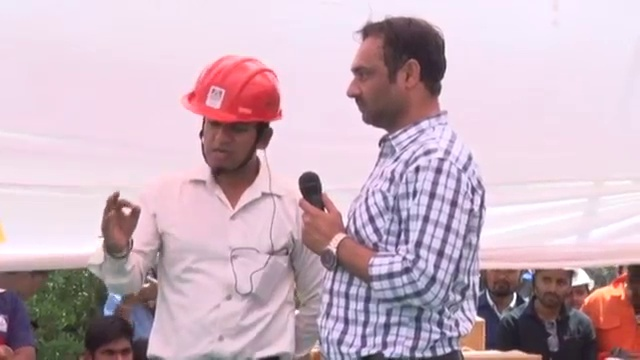helmet: (179, 53, 285, 126), (568, 269, 600, 293)
helmet_off: (350, 22, 447, 125), (532, 267, 585, 315), (84, 317, 134, 360), (610, 267, 640, 316), (486, 265, 524, 303)
helmet_on: (179, 52, 286, 181), (569, 267, 600, 309)
person: (297, 0, 500, 357), (99, 53, 327, 360), (501, 271, 595, 353), (474, 261, 534, 349), (0, 226, 38, 360), (588, 271, 638, 353)
